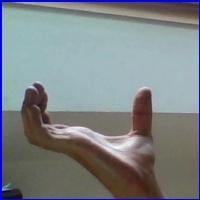space: (17, 77, 165, 182)
